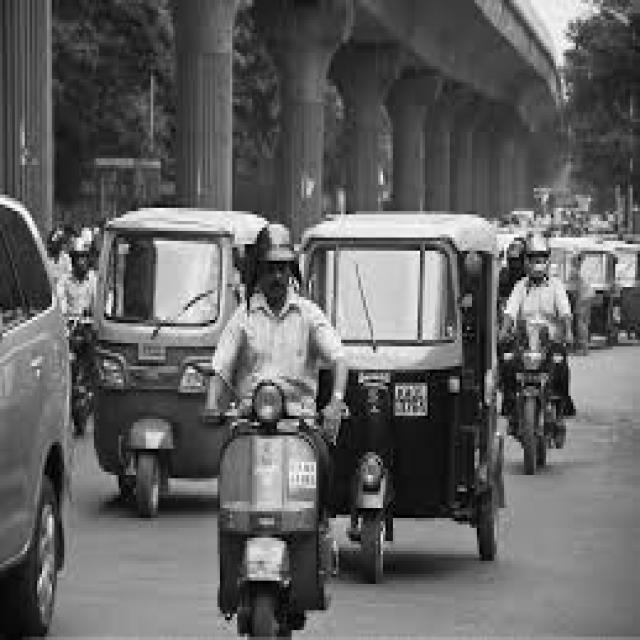auto: (304, 214, 502, 576), (94, 208, 267, 518), (621, 254, 640, 338)
bike: (220, 383, 329, 638), (504, 320, 576, 473)
car: (301, 214, 502, 368), (0, 195, 69, 635), (356, 340, 403, 368)
person: (205, 224, 346, 444), (502, 238, 573, 348), (62, 238, 96, 434)
